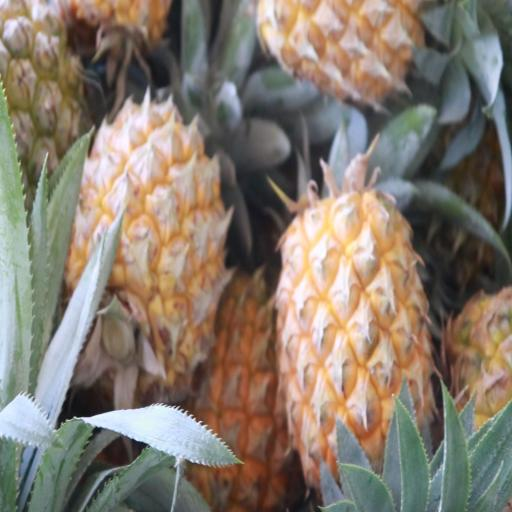Pineapple - v8 v1: (279, 198, 431, 508), (74, 100, 225, 390), (185, 274, 297, 510)
